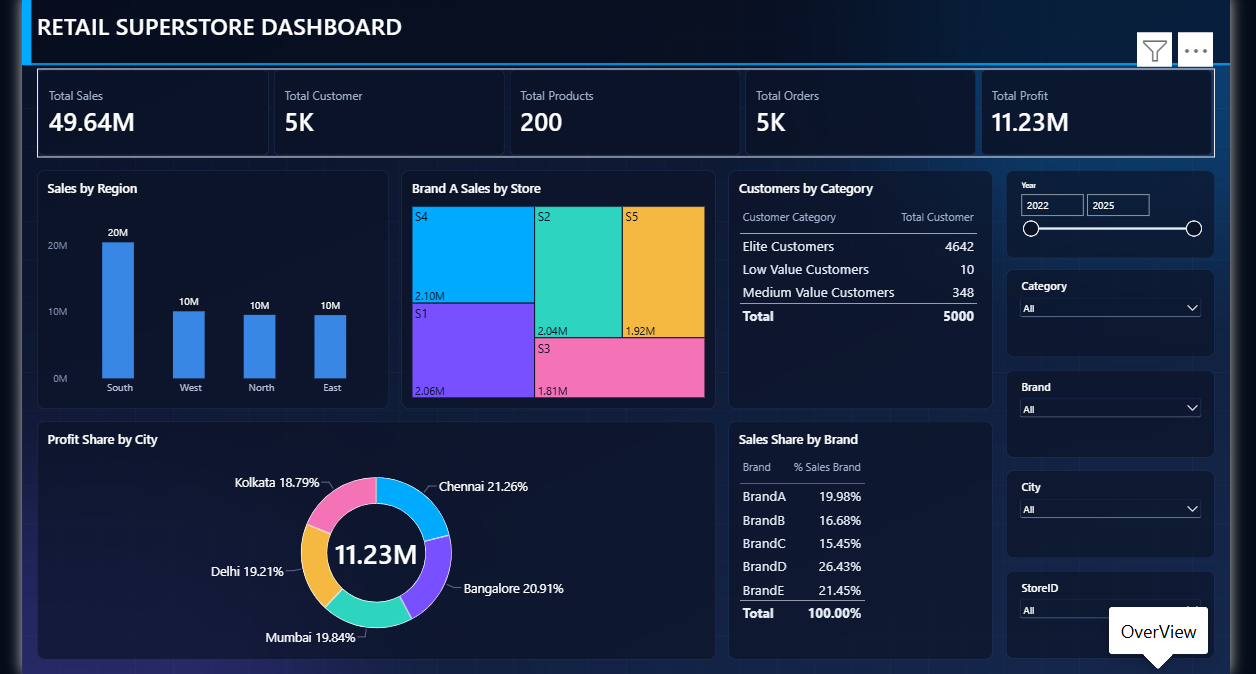

The dashboard page shown, as its layout file describes it:
{"tool":"powerbi","page":{"name":"OverView","canvas":[1920,1080],"ordinal":7},"visuals":[{"type":"slicer","fields":{"Values":["Dim Calender.Year"]},"box":[1564,278,332,139.6],"z":1000},{"type":"slicer","fields":{"Values":["Dim Product.Category"]},"box":[1564,437.6,332,139.6],"z":2000},{"type":"slicer","fields":{"Values":["Dim Product.Brand"]},"box":[1564,597.2,332,139.6],"z":3000},{"type":"slicer","fields":{"Values":["Dim Customer.City"]},"box":[1564,756.8,332,139.6],"z":4000},{"type":"slicer","fields":{"Values":["Dim Store.StoreID"]},"box":[1564,916.4,332,139.6],"z":5000},{"type":"cardVisual","fields":{"Data":["Fact Sales.Total Sales","Fact Sales.Total Customer","Fact Sales.total products","Fact Sales.total orderA","Fact Sales.Total Profit"]},"box":[24,118,1872,140],"z":6000},{"type":"columnChart","title":"Sales by Region","fields":{"Category":["Dim Customer.Region"],"Y":["Fact Sales.Total Sales"]},"box":[24,278,560,379],"z":7000},{"type":"donutChart","title":"Profit Share by City","fields":{"Category":["Dim Customer.City"],"Y":["Fact Sales.Total Profit"]},"box":[24,677,1080,379],"z":8000},{"type":"treemap","title":"Brand A Sales by Store","fields":{"Group":["Fact Sales.StoreID"],"Values":["Fact Sales.Total Sales(BrandA)"]},"box":[604,278,500,379],"z":9000},{"type":"tableEx","title":"Customers by Category","fields":{"Values":["Fact Sales.Customer Category","Fact Sales.Total Customer"]},"box":[1124,278,420,379],"z":10000},{"type":"tableEx","title":"Sales Share by Brand","fields":{"Values":["Dim Product.Brand","Fact Sales.% Sales Brand"]},"box":[1124,677,420,379],"z":11000},{"type":"textbox","box":[24,24,960,62],"z":11001}]}

Visuals, with their boxes on the page's 1920x1080 design canvas (x1, y1, x2, y2). These are canvas units, not pixel positions in the 1256x674 screenshot, which may show the page scaled, cropped or inside an application window:
slicer - Dim Calender.Year: box(1564, 278, 1896, 418)
slicer - Dim Product.Category: box(1564, 438, 1896, 577)
slicer - Dim Product.Brand: box(1564, 597, 1896, 737)
slicer - Dim Customer.City: box(1564, 757, 1896, 896)
slicer - Dim Store.StoreID: box(1564, 916, 1896, 1056)
cardVisual - Fact Sales.Total Sales x Fact Sales.Total Customer: box(24, 118, 1896, 258)
"Sales by Region" columnChart: box(24, 278, 584, 657)
"Profit Share by City" donutChart: box(24, 677, 1104, 1056)
"Brand A Sales by Store" treemap: box(604, 278, 1104, 657)
"Customers by Category" tableEx: box(1124, 278, 1544, 657)
"Sales Share by Brand" tableEx: box(1124, 677, 1544, 1056)
textbox: box(24, 24, 984, 86)
